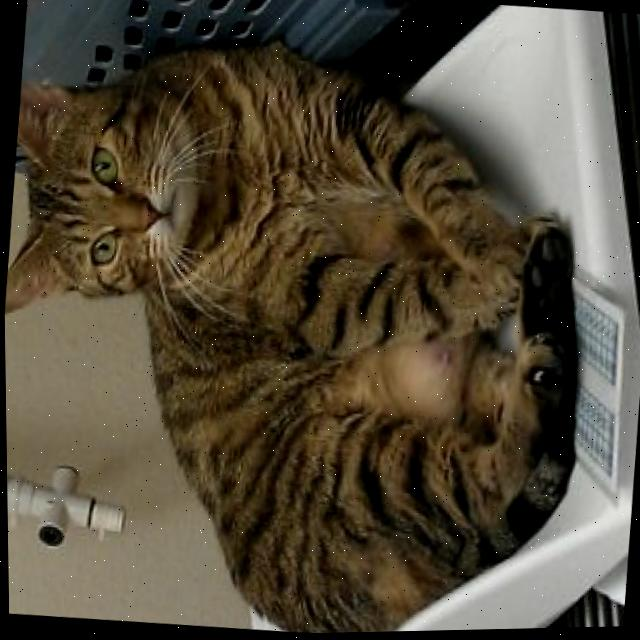Bengal: (0, 0, 618, 640)
